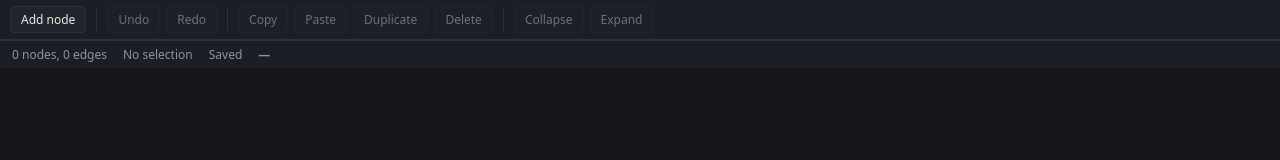
Test: EditorToolbar + EditorStatusBar › Copy/Paste/Duplicate/Delete reflect selection in the status bar
This screenshot has width=1280, height=160.
Add two nodes, select one via the store (selection normally comes from RF).
Click the button "Add node" at (48, 20), box x1=10 y1=6 x2=86 y2=33
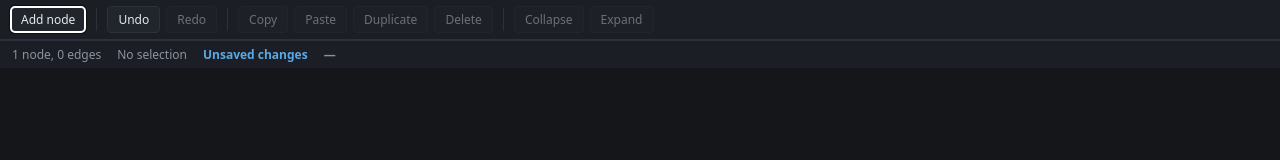
Click the button "Add node" at (48, 20), box x1=10 y1=6 x2=86 y2=33
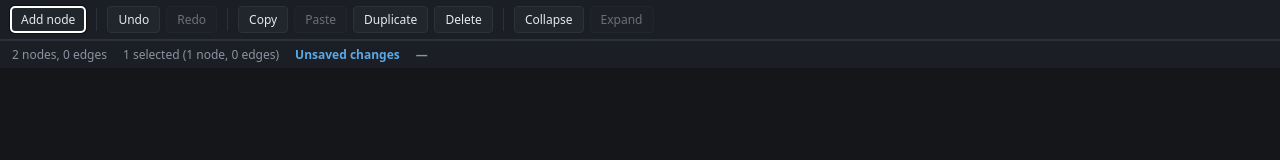
Expected: the text with test id "status-selection" shows "1 selected", x1=123 y1=46 x2=279 y2=63
Click the button "Copy" at (263, 20), box x1=238 y1=6 x2=288 y2=33
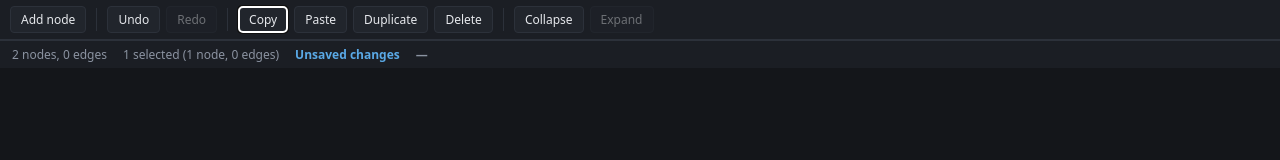
Click the button "Paste" at (321, 20), box x1=294 y1=6 x2=347 y2=33
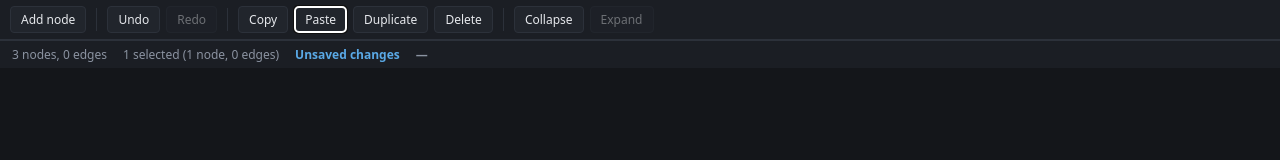
Expected: the text with test id "status-counts" shows "3 nodes", x1=12 y1=46 x2=107 y2=63
Delete removes the currently-selected (pasted) node.
Click the button "Delete" at (464, 20), box x1=434 y1=6 x2=493 y2=33
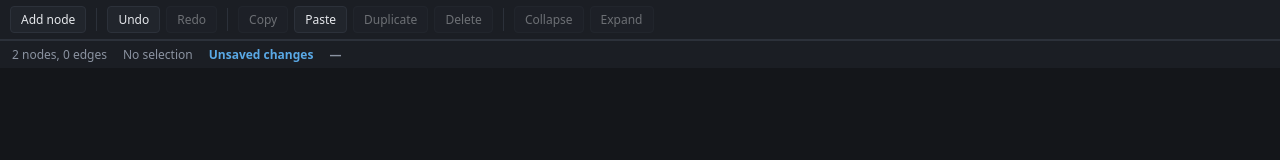
Expected: the text with test id "status-counts" shows "2 nodes", x1=12 y1=46 x2=107 y2=63
